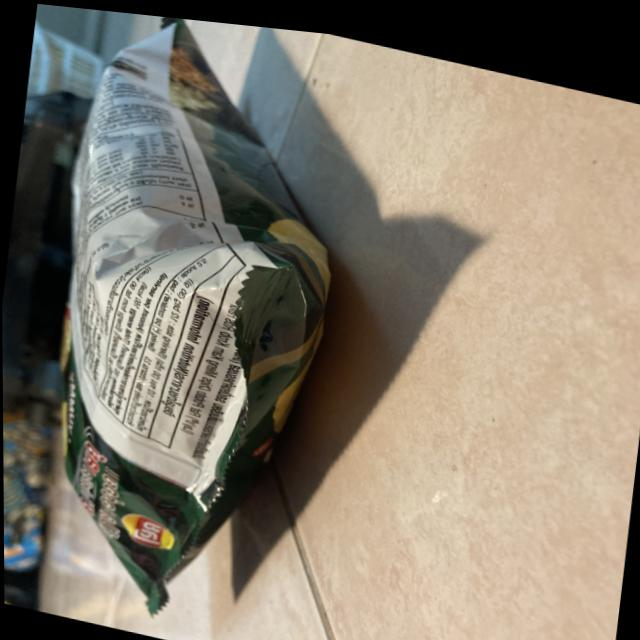Laygreen: (12, 1, 371, 626)
